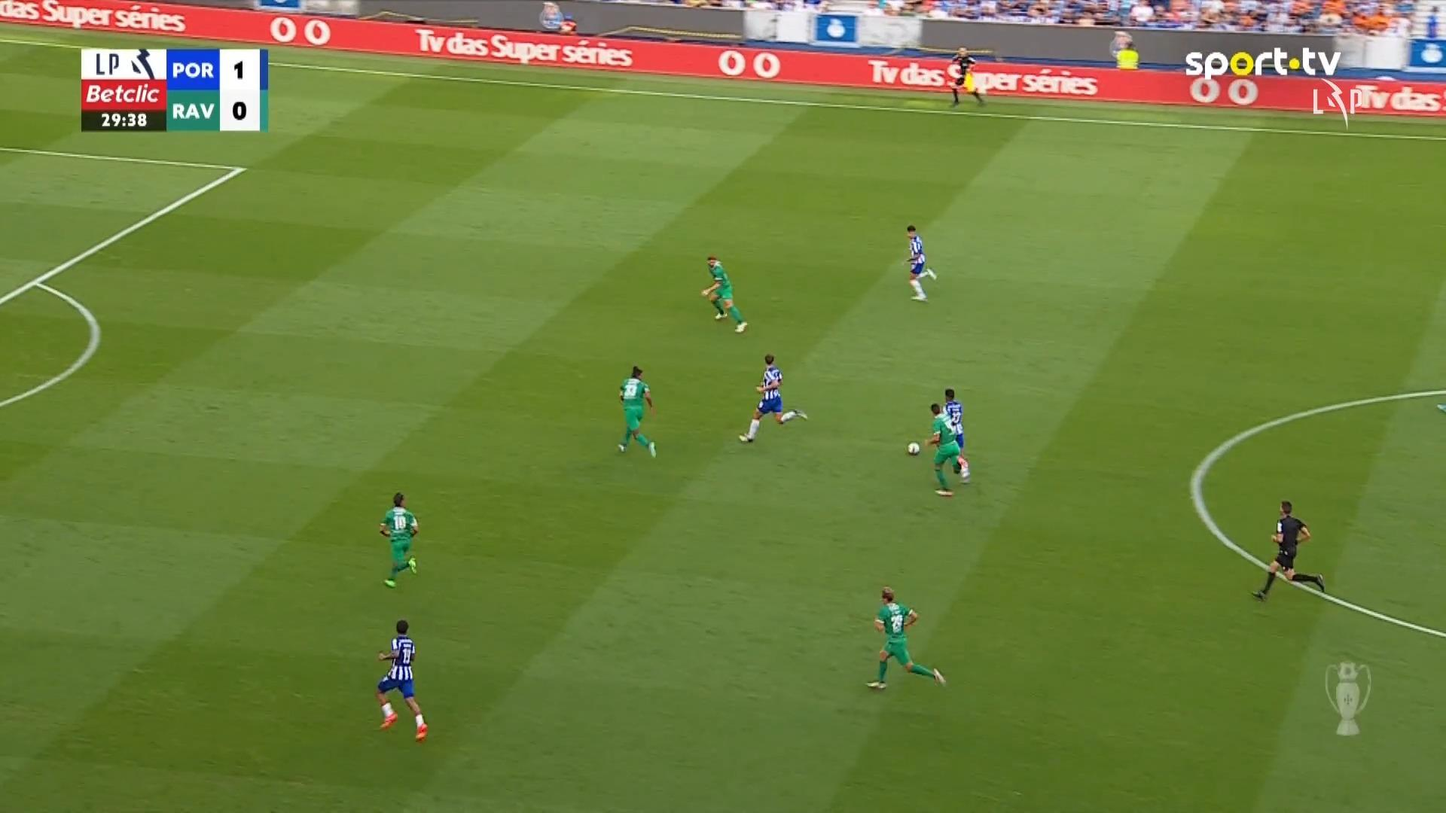ball: (907, 441, 920, 455)
player: (865, 585, 945, 690), (375, 618, 429, 741), (737, 353, 808, 443), (925, 401, 971, 496), (615, 364, 657, 458), (378, 491, 419, 587), (700, 254, 748, 333), (904, 224, 937, 301), (942, 388, 969, 472)
referee: (1250, 499, 1325, 601), (945, 46, 986, 107)
